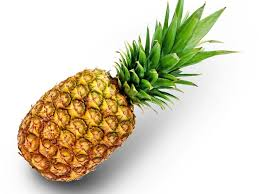pineapple: (17, 67, 140, 186)
